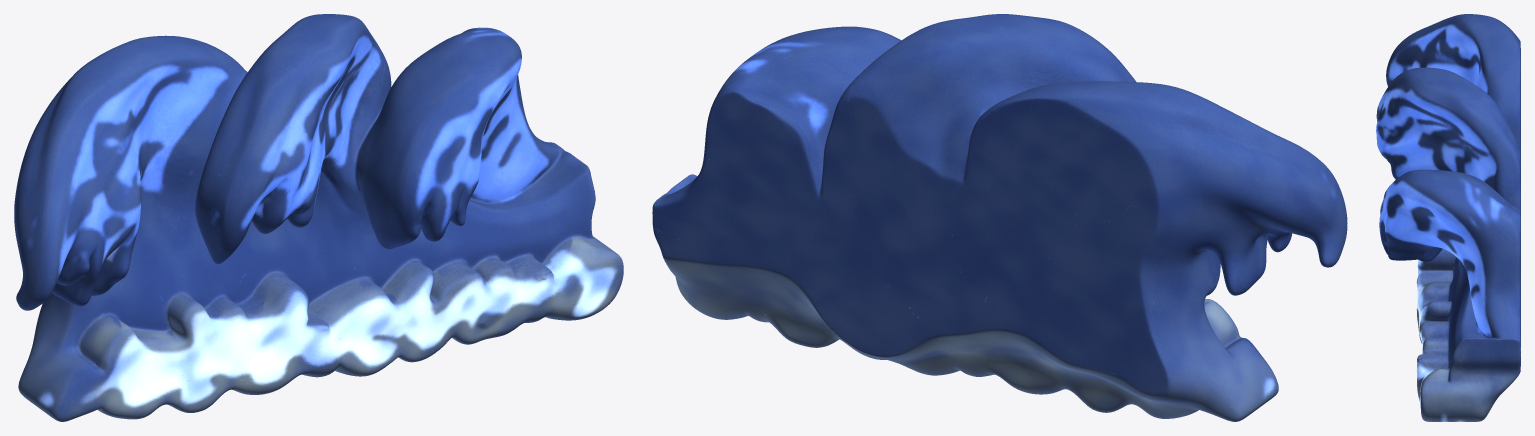
File: icon.glb
3 views of the same model, side by side, from view 1: azimuth 30°, elevation 25°; view 2: azimuth 150°, elevation 25°; view 3: azimuth 270°, elevation 25° (orthographic). The views are drawn at different scales.
Visible parts, largest first — view 1: Mesh_0; view 2: Mesh_0; view 3: Mesh_0.
Boxes of the visible parts, box(x1,y1,x2,y2) form: Mesh_0: box(14, 14, 623, 421); Mesh_0: box(652, 14, 1347, 421); Mesh_0: box(1376, 14, 1520, 421).
Size of the model in its own units: 0.5609 by 0.3 by 0.1576.
1 material, 1 textured.
